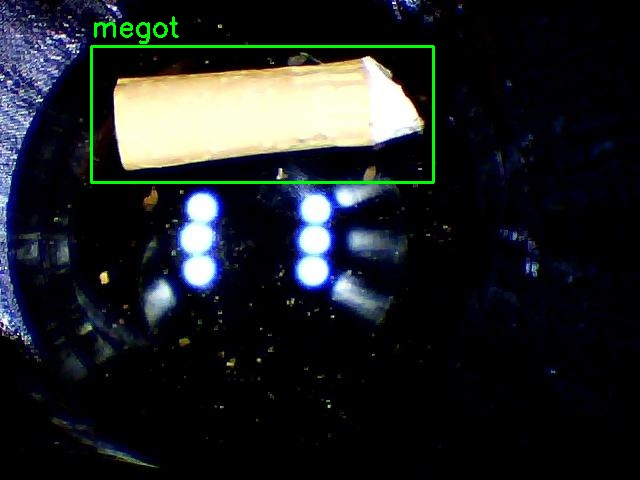megot: (91, 46, 433, 182)
